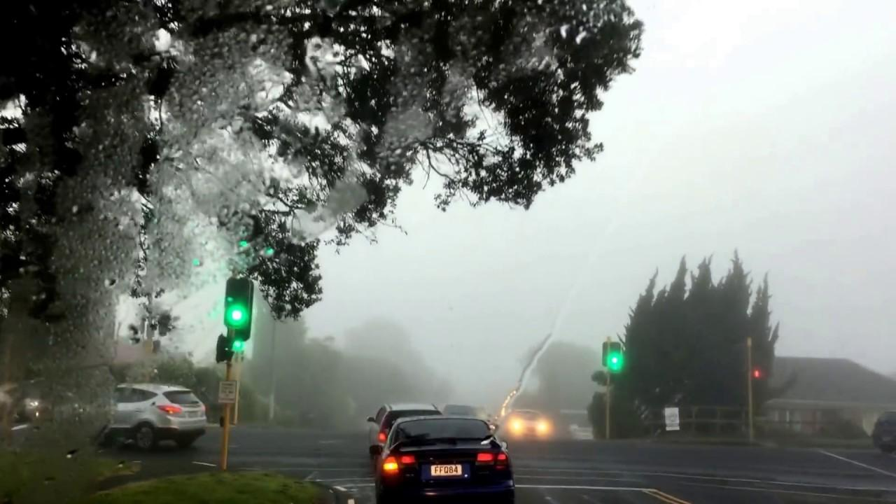car: (367, 412, 516, 504), (49, 379, 209, 450), (364, 401, 446, 473), (439, 403, 491, 443), (498, 407, 554, 443), (553, 408, 599, 445)
